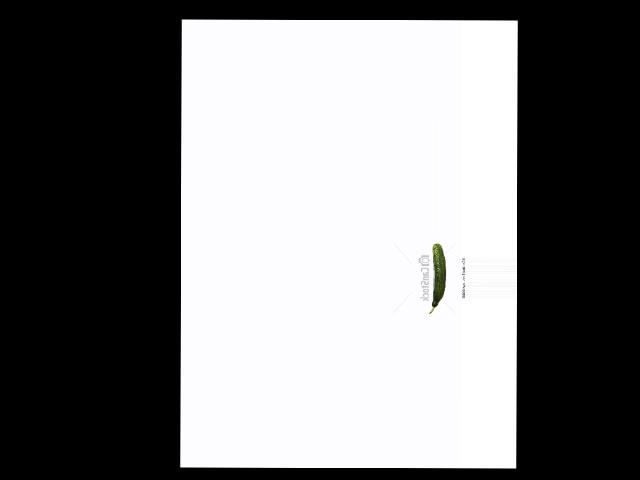cucumber: (429, 244, 446, 314)
